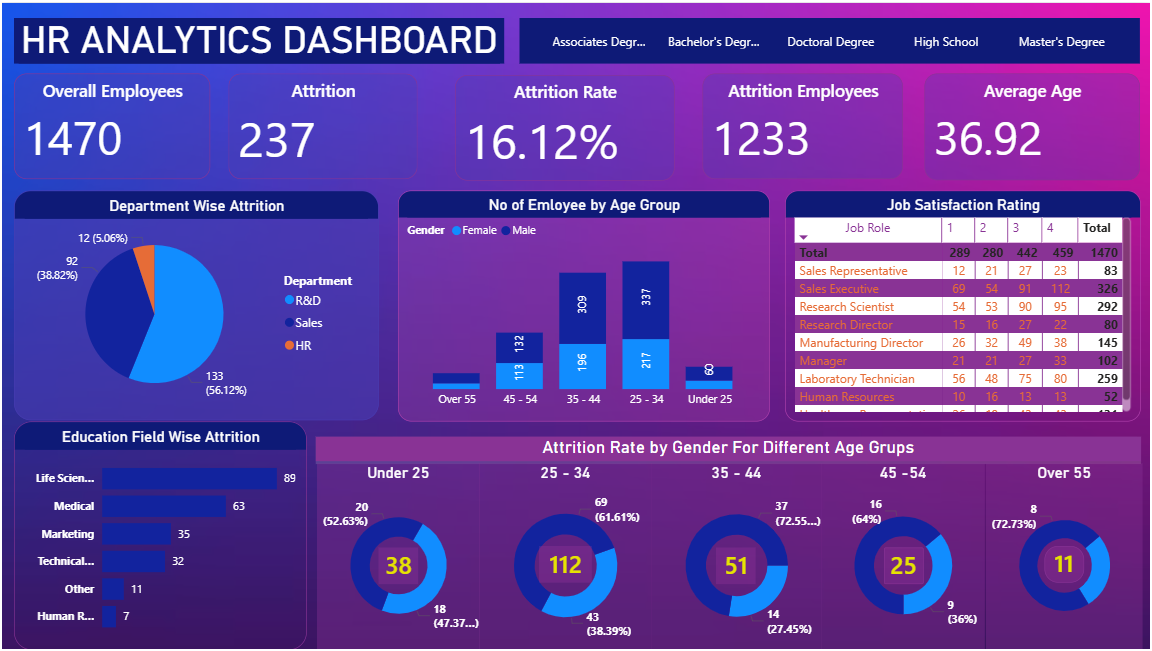

What the dashboard file says about the page in this screenshot:
{"tool":"powerbi","page":{"name":"Page 1","canvas":[1280,720],"ordinal":0},"visuals":[{"type":"multiRowCard","title":"Overall Employees","fields":{"Values":["Sum(HR data.Employee Count)"]},"box":[16.3,78.1,218,117.1],"z":0},{"type":"multiRowCard","title":"Attrition","fields":{"Values":["Sum(HR data.Attrition Count)"]},"box":[255.4,78.1,209.8,117.1],"z":1000},{"type":"multiRowCard","title":"Attrition Rate","fields":{"Values":["HR data.Attrition Rate"]},"box":[507.5,79.7,244,117.1],"z":2000},{"type":"multiRowCard","title":"Attrition Employees","fields":{"Values":["HR data.Attrition Employees"]},"box":[782.4,78.1,222.8,117.1],"z":3000},{"type":"multiRowCard","title":"Average Age","fields":{"Values":["Avg(HR data.Age)"]},"box":[1028,78.1,239.1,118.7],"z":4000},{"type":"pieChart","title":"Department Wise Attrition","fields":{"Category":["HR data.Department"],"Y":["Sum(HR data.Attrition Count)"]},"box":[16.3,208.2,405,255.4],"z":5000},{"type":"columnChart","title":"No of Emloyee by Age Group","fields":{"Category":["HR data.CF_age band"],"Y":["Sum(HR data.Employee Count)"],"Series":["HR data.Gender"]},"box":[444,208.2,413.1,257],"z":6000},{"type":"pivotTable","title":"Job Satisfaction Rating","fields":{"Rows":["HR data.Job Role"],"Columns":["HR data.Job Satisfaction"],"Values":["Sum(HR data.Employee Count)"]},"box":[873.5,208.2,395.3,257],"z":7000},{"type":"barChart","title":"Education Field Wise Attrition","fields":{"Category":["HR data.Education Field"],"Y":["Sum(HR data.Attrition Count)"]},"box":[16.3,465.2,325.3,253.7],"z":7001},{"type":"textbox","title":"Attrition Rate by Gender For Different Age Grups","box":[351.3,481.5,917.4,30.9],"z":7003},{"type":"donutChart","title":"Under 25","fields":{"Category":["HR data.Gender"],"Y":["Sum(HR data.Attrition Count)"],"Series":["HR data.CF_age band"]},"box":[353,512.4,180.5,206.6],"z":7004},{"type":"donutChart","title":"25 - 34","fields":{"Category":["HR data.Gender"],"Y":["Sum(HR data.Attrition Count)"],"Series":["HR data.CF_age band"]},"box":[533.5,512.4,191.9,206.6],"z":7005},{"type":"donutChart","title":"Over 55","fields":{"Category":["HR data.Gender"],"Y":["Sum(HR data.Attrition Count)"],"Series":["HR data.CF_age band"]},"box":[1096.3,512.4,174,206.6],"z":7006},{"type":"donutChart","title":"35 - 44","fields":{"Category":["HR data.Gender"],"Y":["Sum(HR data.Attrition Count)"],"Series":["HR data.CF_age band"]},"box":[725.4,512.4,188.7,206.6],"z":7007},{"type":"donutChart","title":"45 -54","fields":{"Category":["HR data.Gender"],"Y":["Sum(HR data.Attrition Count)"],"Series":["HR data.CF_age band"]},"box":[914.1,512.4,182.2,206.6],"z":7008},{"type":"card","fields":{"Values":["Sum(HR data.Attrition Count)"]},"box":[421.3,605.1,43.9,40.7],"z":7009},{"type":"card","fields":{"Values":["Sum(HR data.Attrition Count)"]},"box":[600.2,603.4,58.6,40.7],"z":7010},{"type":"card","fields":{"Values":["Sum(HR data.Attrition Count)"]},"box":[797,605.1,43.9,40.7],"z":7011},{"type":"card","fields":{"Values":["Sum(HR data.Attrition Count)"]},"box":[984.1,605.1,43.9,40.7],"z":7012},{"type":"card","fields":{"Values":["Sum(HR data.Attrition Count)"]},"box":[1161.4,603.4,43.9,40.7],"z":7013},{"type":"textbox","title":"HR ANALYTICS DASHBOARD","box":[16.3,16.3,544.9,50.4],"z":7014},{"type":"slicer","fields":{"Values":["HR data.Education"]},"box":[579,16.3,689.7,50.4],"z":7015}]}

Visuals, with their boxes in screenshot pixels (x1, y1, x2, y2), scaled from the page's 1280x720 canvas onto the 1152x651 screenshot:
"Overall Employees" multiRowCard: locate(15, 71, 211, 176)
"Attrition" multiRowCard: locate(230, 71, 419, 176)
"Attrition Rate" multiRowCard: locate(457, 72, 676, 178)
"Attrition Employees" multiRowCard: locate(704, 71, 905, 176)
"Average Age" multiRowCard: locate(925, 71, 1140, 178)
"Department Wise Attrition" pieChart: locate(15, 188, 379, 419)
"No of Emloyee by Age Group" columnChart: locate(400, 188, 771, 421)
"Job Satisfaction Rating" pivotTable: locate(786, 188, 1142, 421)
"Education Field Wise Attrition" barChart: locate(15, 421, 307, 650)
"Attrition Rate by Gender For Different Age Grups" textbox: locate(316, 435, 1142, 463)
"Under 25" donutChart: locate(318, 463, 480, 650)
"25 - 34" donutChart: locate(480, 463, 653, 650)
"Over 55" donutChart: locate(987, 463, 1143, 650)
"35 - 44" donutChart: locate(653, 463, 823, 650)
"45 -54" donutChart: locate(823, 463, 987, 650)
card - Sum(HR data.Attrition Count): locate(379, 547, 419, 584)
card - Sum(HR data.Attrition Count): locate(540, 546, 593, 582)
card - Sum(HR data.Attrition Count): locate(717, 547, 757, 584)
card - Sum(HR data.Attrition Count): locate(886, 547, 925, 584)
card - Sum(HR data.Attrition Count): locate(1045, 546, 1085, 582)
"HR ANALYTICS DASHBOARD" textbox: locate(15, 15, 505, 60)
slicer - HR data.Education: locate(521, 15, 1142, 60)
